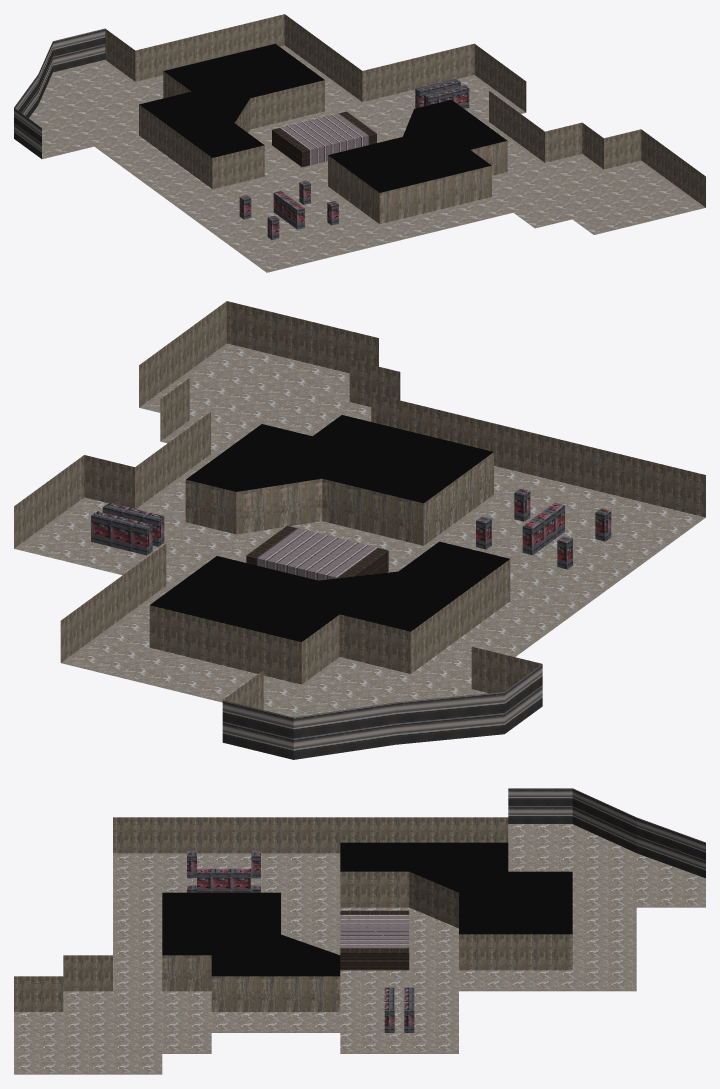
File: computer_room.glb
3 views of the same model, one above another, from view 1: azimuth 30°, elevation 25°; view 2: azimuth 150°, elevation 25°; view 3: azimuth 270°, elevation 25° (orthographic). The views are drawn at different scales.
Parts seen in each view (by area): view 1: battlefield-col; view 2: battlefield-col; view 3: battlefield-col.
Part boxes in pixels (x1=…): battlefield-col: x1=14, y1=14, x2=705, y2=272; battlefield-col: x1=14, y1=301, x2=705, y2=759; battlefield-col: x1=14, y1=788, x2=705, y2=1074.
Bounding box in the file's own units: 120 × 8 × 140.
7 materials, 6 textured.
